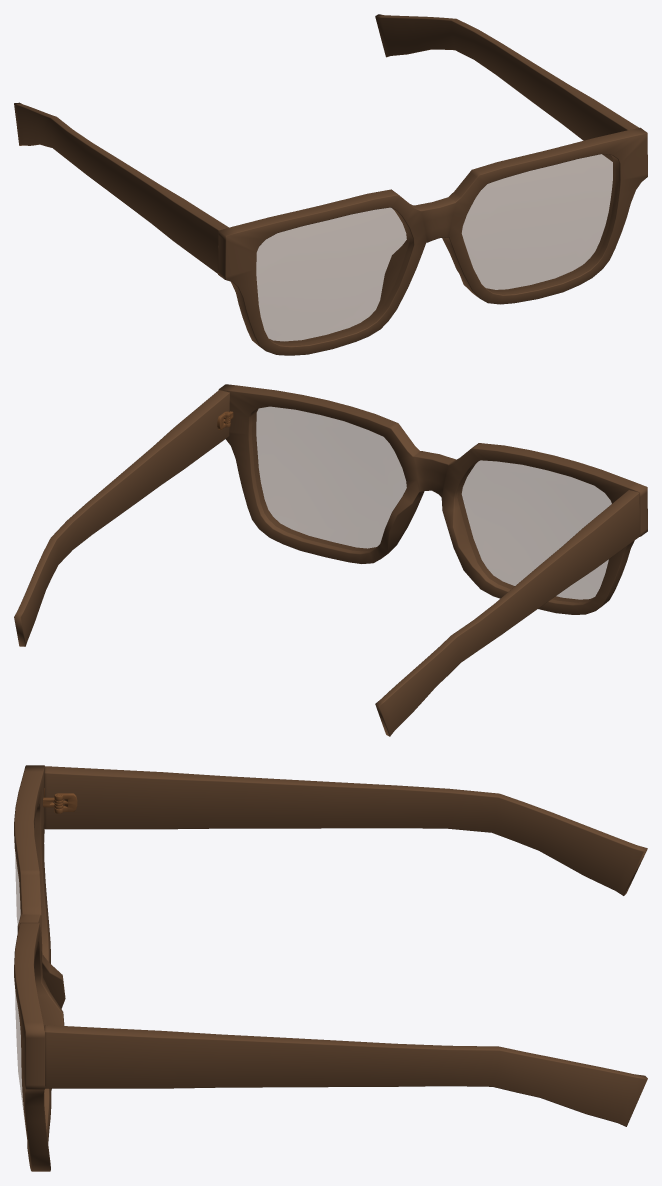
The model's file is yuvarlak-retro-havana.glb.
3 views of the same model, one above another, from view 1: azimuth 30°, elevation 25°; view 2: azimuth 150°, elevation 25°; view 3: azimuth 270°, elevation 25° (orthographic). The views are drawn at different scales.
Visible parts, largest first — view 1: OPTIK_PRODUCT_273; view 2: OPTIK_PRODUCT_273; view 3: OPTIK_PRODUCT_273.
Part boxes in pixels (x1,y1,x2,y2): OPTIK_PRODUCT_273: (14,14,647,355); OPTIK_PRODUCT_273: (14,384,647,736); OPTIK_PRODUCT_273: (14,765,647,1171).
Size of the model in its own units: 0.1534 by 0.0504 by 0.1538.
